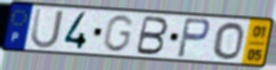4: (61, 10, 89, 52)
B: (133, 15, 170, 57)
G: (101, 13, 136, 54)
O: (211, 21, 246, 61)
P: (175, 17, 212, 60)
U: (29, 7, 66, 50)
